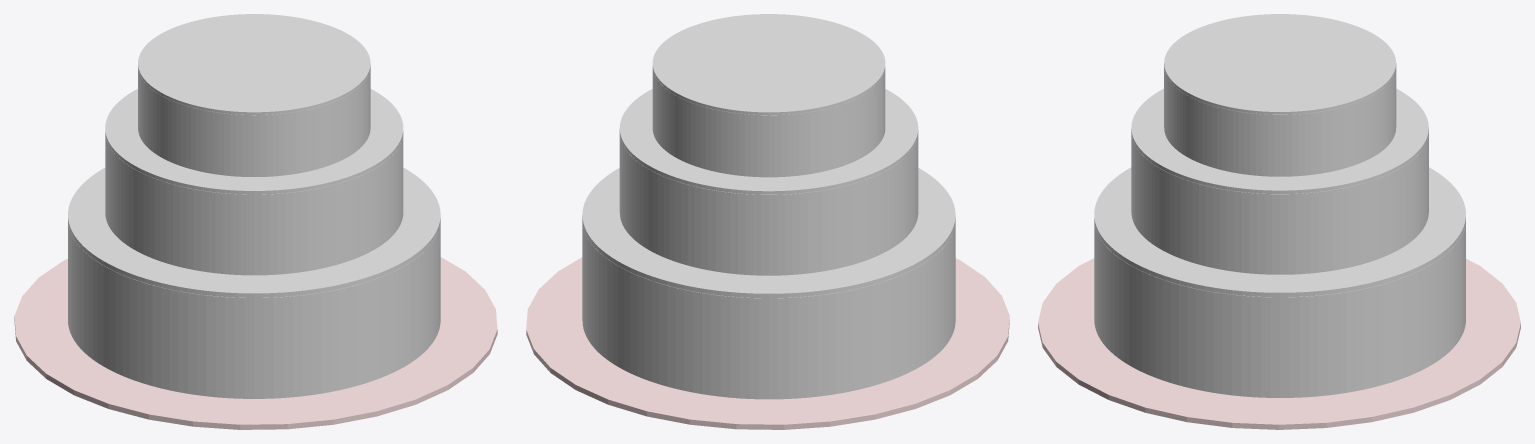
File: CAKE_B_3L_RENAME.glb
3 views of the same model, side by side, from view 1: azimuth 30°, elevation 25°; view 2: azimuth 150°, elevation 25°; view 3: azimuth 270°, elevation 25° (orthographic).
Visible parts, largest first — view 1: BATTER.002, BATTER.001, PLATE, CREAM, BATTER, CREAM.002, CREAM.001; view 2: BATTER.002, BATTER.001, PLATE, CREAM, BATTER, CREAM.002, CREAM.001; view 3: BATTER.002, PLATE, BATTER.001, CREAM, BATTER, CREAM.002, CREAM.001.
Boxes of the visible parts, x1,y1,x2,y2 form: BATTER.002: [68, 222, 440, 398]; BATTER.001: [105, 135, 403, 275]; PLATE: [14, 257, 497, 429]; CREAM: [138, 14, 370, 114]; BATTER: [138, 67, 370, 176]; CREAM.002: [68, 167, 440, 297]; CREAM.001: [105, 89, 403, 194]; BATTER.002: [582, 220, 955, 399]; BATTER.001: [619, 132, 918, 275]; PLATE: [526, 257, 1009, 429]; CREAM: [652, 14, 885, 115]; BATTER: [652, 69, 885, 177]; CREAM.002: [582, 168, 955, 298]; CREAM.001: [619, 89, 918, 194]; BATTER.002: [1094, 223, 1465, 397]; PLATE: [1038, 258, 1520, 429]; BATTER.001: [1131, 132, 1428, 274]; CREAM: [1164, 14, 1396, 114]; BATTER: [1164, 66, 1396, 176]; CREAM.002: [1094, 167, 1465, 297]; CREAM.001: [1131, 88, 1428, 193].
Size of the model in its own units: 1.97 by 1.19 by 1.97.
